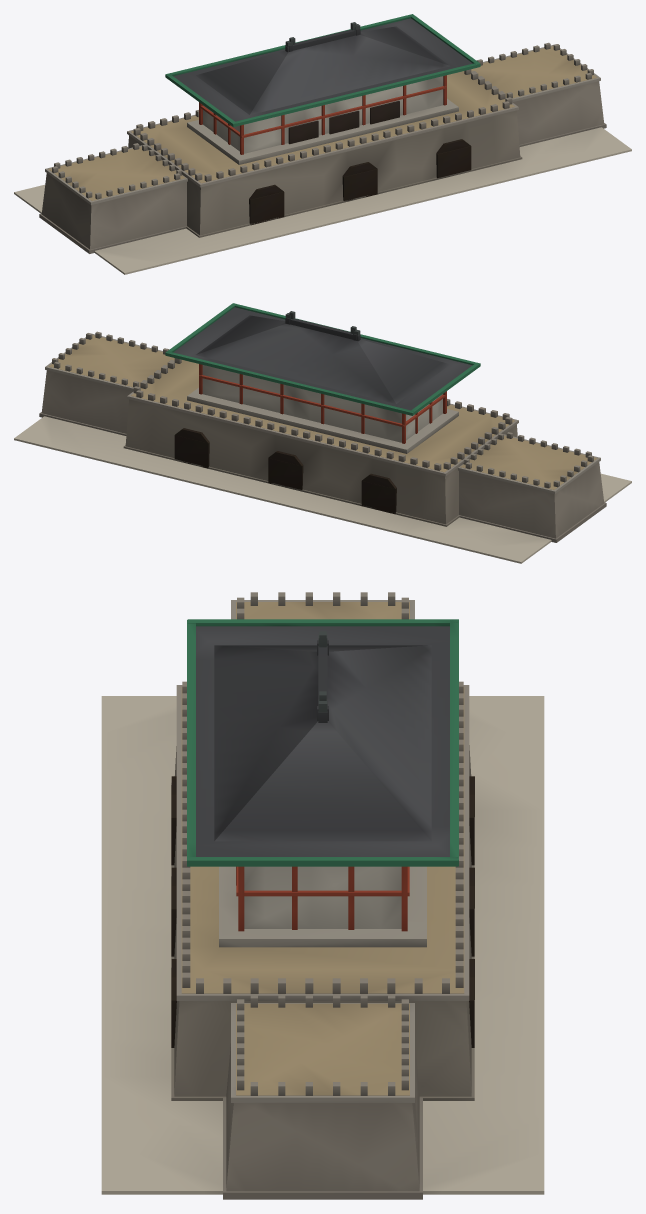
Rendered from zhuquemen.glb.
The picture shows the model from 3 angles, top to bottom: view 1: azimuth 30°, elevation 25°; view 2: azimuth 150°, elevation 25°; view 3: azimuth 270°, elevation 25°; orthographic projection. The views are drawn at different scales.
Parts seen in each view (by area): view 1: p0_gates, p2_roofs, p1_halls; view 2: p0_gates, p2_roofs, p1_halls; view 3: p0_gates, p2_roofs, p1_halls.
Boxes of the visible parts, left/top/right/bottom form: p0_gates: left=14, top=42, right=631, bottom=274; p2_roofs: left=165, top=14, right=480, bottom=127; p1_halls: left=187, top=75, right=458, bottom=164; p0_gates: left=14, top=331, right=631, bottom=563; p2_roofs: left=165, top=303, right=480, bottom=415; p1_halls: left=187, top=364, right=458, bottom=453; p0_gates: left=101, top=592, right=544, bottom=1199; p2_roofs: left=187, top=619, right=458, bottom=866; p1_halls: left=219, top=866, right=426, bottom=947.
Size of the model in its own units: 91.72 by 24.08 by 34.
